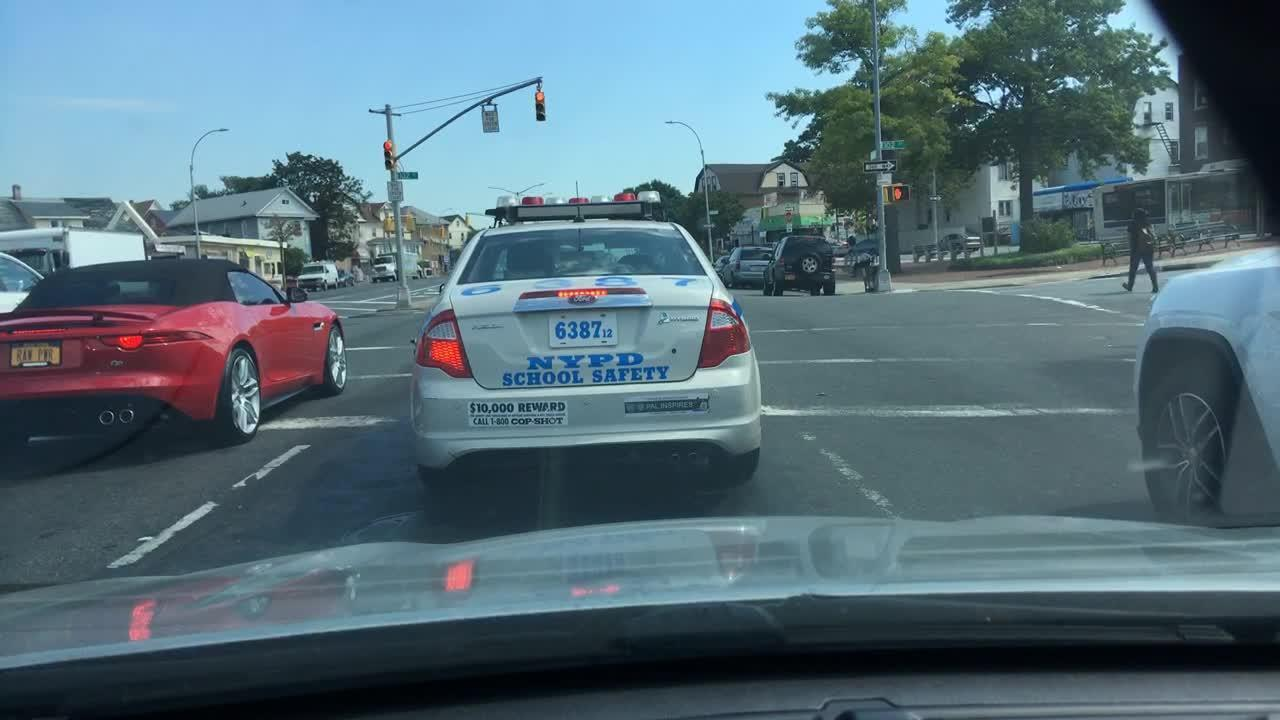ford: (560, 289, 603, 309)
